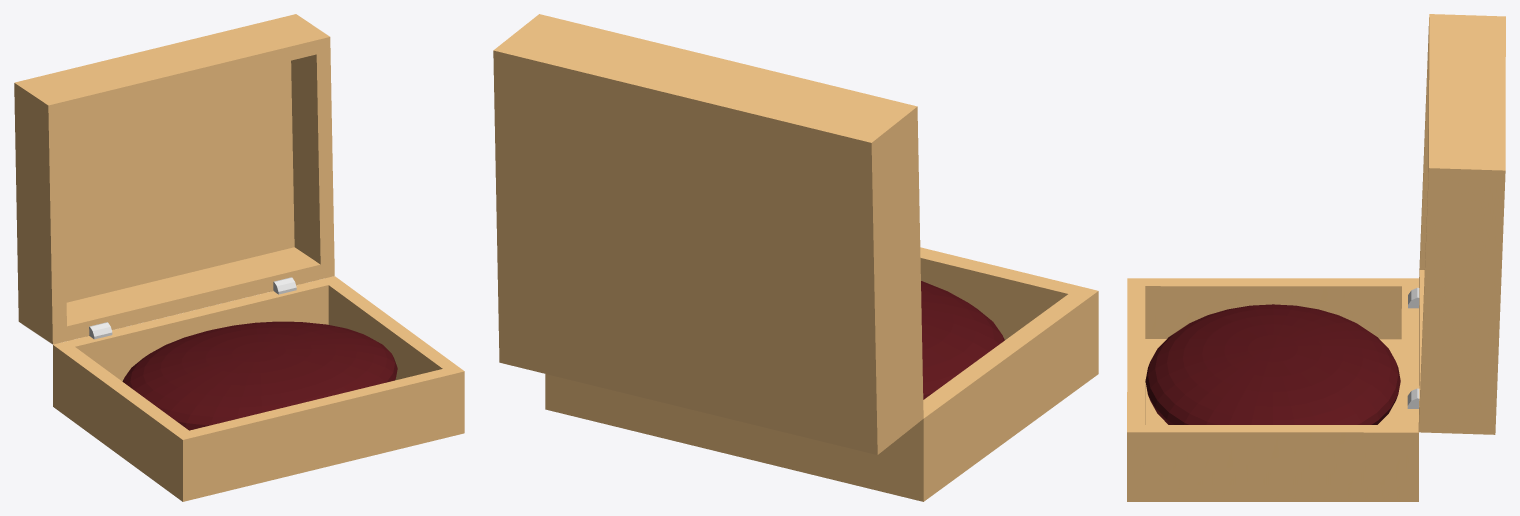
File: cajita.fbx
3 renders of one model, left to right at view 1: azimuth 30°, elevation 25°; view 2: azimuth 150°, elevation 25°; view 3: azimuth 270°, elevation 25°, orthographic. The views are drawn at different scales.
Parts seen in each view (by area): view 1: Cube.001, Cube, Sphere; view 2: Cube.001, Cube, Sphere; view 3: Cube, Cube.001, Sphere.
Part boxes in pixels (x1,y1,x2,y2): Cube.001: (14, 14, 334, 344); Cube: (53, 276, 464, 501); Sphere: (122, 321, 397, 430); Cube.001: (493, 14, 923, 454); Cube: (545, 247, 1098, 501); Sphere: (921, 281, 1004, 399); Cube: (1127, 278, 1418, 501); Cube.001: (1418, 14, 1505, 434); Sphere: (1145, 304, 1400, 424).
Bounding box in the file's own units: 117 × 118 × 122.
